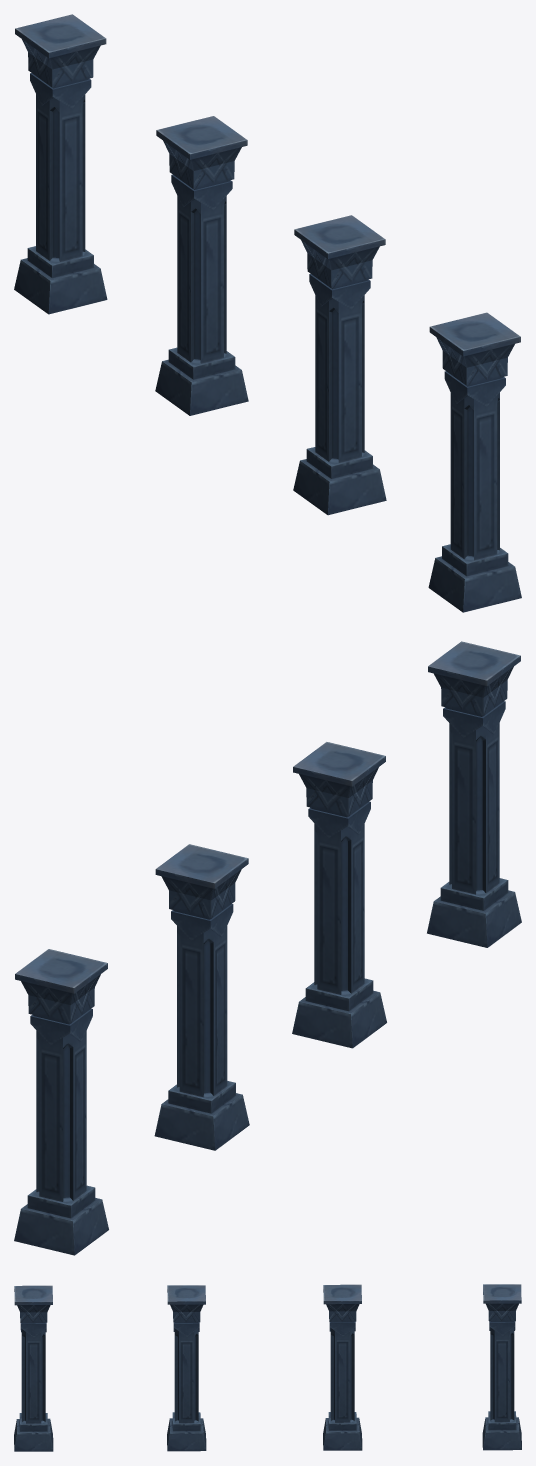
Rendered from Area_04_2.fbx.
3 renders of one model, top to bottom at view 1: azimuth 30°, elevation 25°; view 2: azimuth 150°, elevation 25°; view 3: azimuth 270°, elevation 25°, orthographic. The views are drawn at different scales.
Visible parts, largest first — view 1: Area_04_2; view 2: Area_04_2; view 3: Area_04_2.
Part boxes in pixels (box(x1,y1,x2,y2)): Area_04_2: box(14, 14, 521, 612); Area_04_2: box(14, 641, 521, 1255); Area_04_2: box(14, 1284, 521, 1451).
Size of the model in its own units: 485 by 1865 by 5741.
